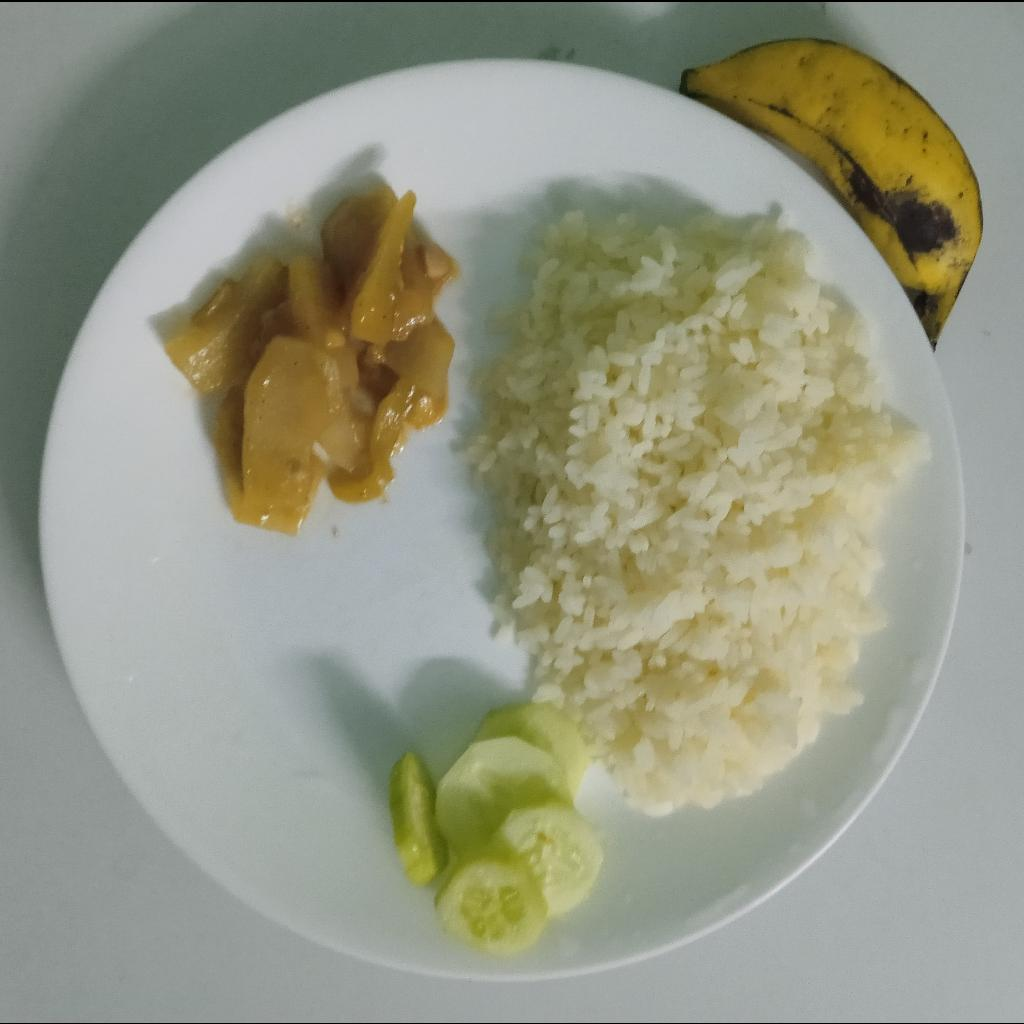banana: (680, 37, 982, 355)
cucumber: (392, 702, 608, 958)
lau: (160, 177, 463, 537)
rice: (460, 204, 926, 826)
